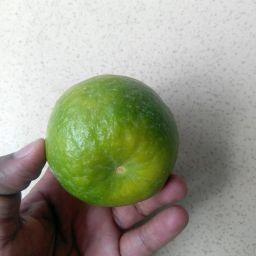Unripe: (49, 77, 177, 204)
